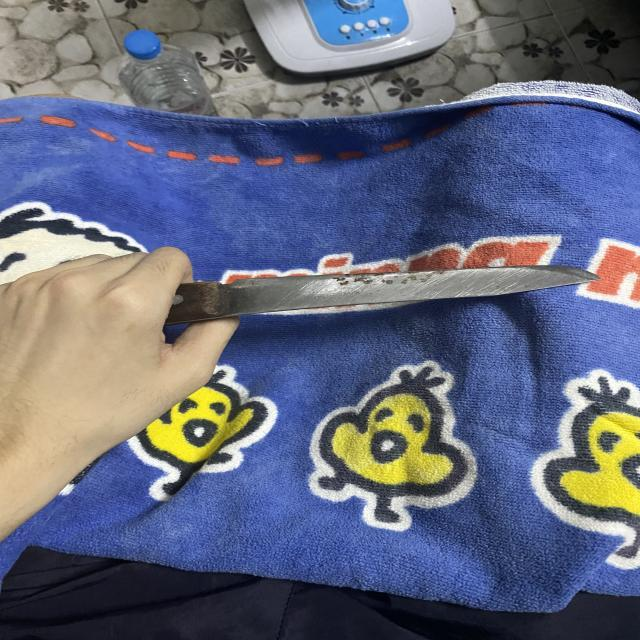faca: (0, 228, 610, 378)
